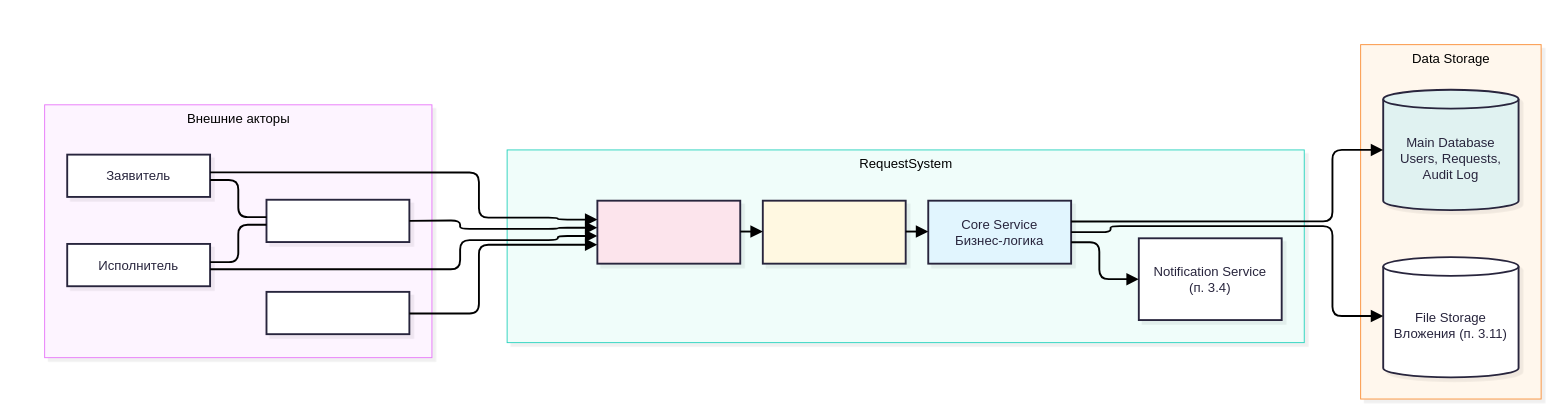
This 1561x419 diagram has some shape labels left out. The centre of each missing label's shape, as x and y in pixels:
"Auth Module RBAC (п. 3.5)" goes at point 670,233.
"Request UI Фильтры (п. 3.3)" goes at point 835,233.
"Администратор" goes at point 339,314.
"Оператор" goes at point 339,222.
